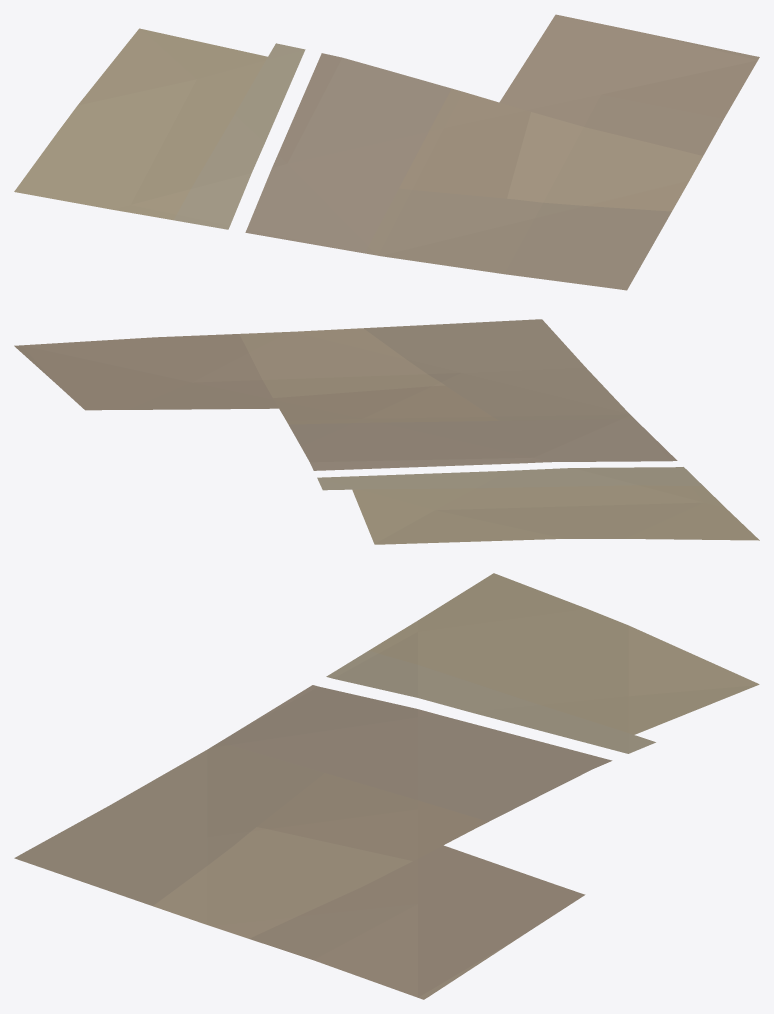
Rendered from farm_-15_-23_soil.glb.
3 renders of one model, top to bottom at view 1: azimuth 30°, elevation 25°; view 2: azimuth 150°, elevation 25°; view 3: azimuth 270°, elevation 25°, orthographic. The views are drawn at different scales.
Parts seen in each view (by area): view 1: geometry_0; view 2: geometry_0; view 3: geometry_0.
Part boxes in pixels (bbox=[...]): geometry_0: bbox=[14, 14, 759, 290]; geometry_0: bbox=[14, 319, 759, 544]; geometry_0: bbox=[14, 573, 759, 999].
Size of the model in its own units: 365 by 33.17 by 283.
